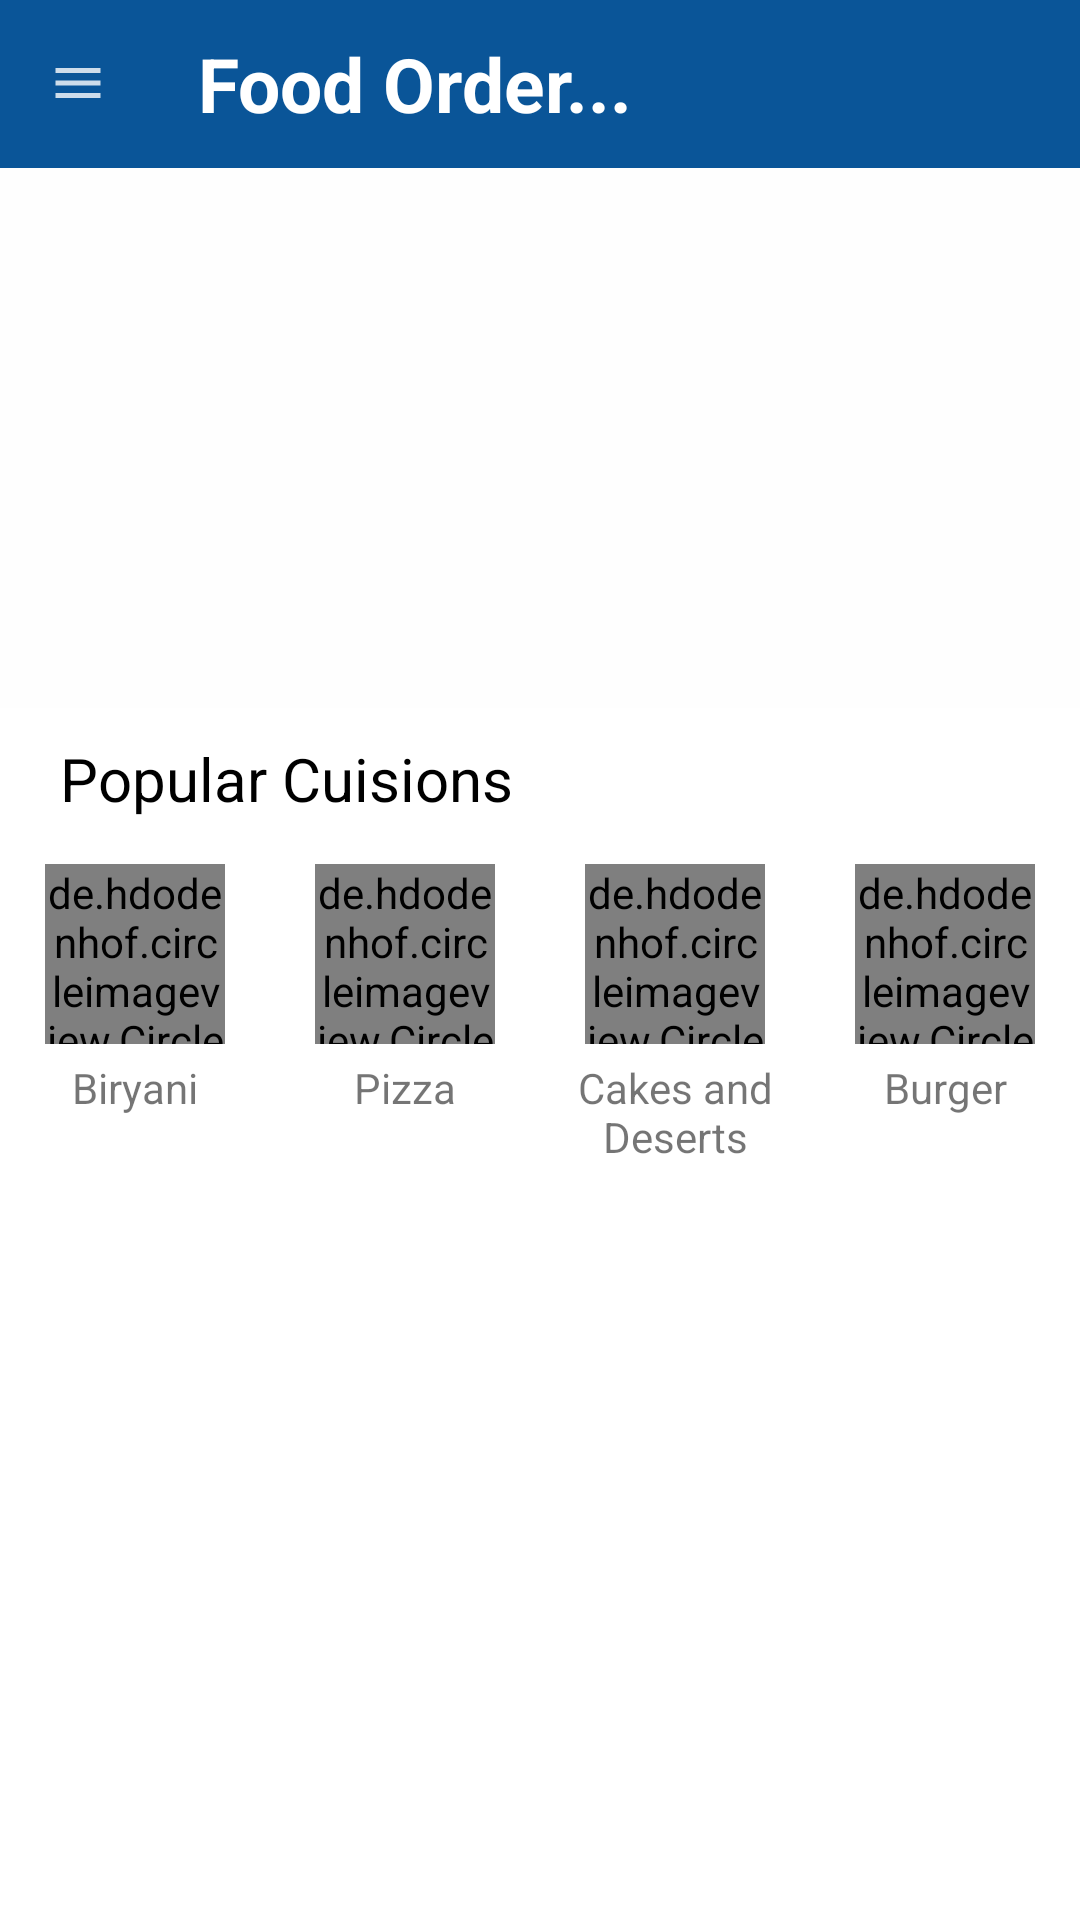

Icon click points for this 1080px x 1920px phone screenshot, format [x,y]:
menu: [78,83]
